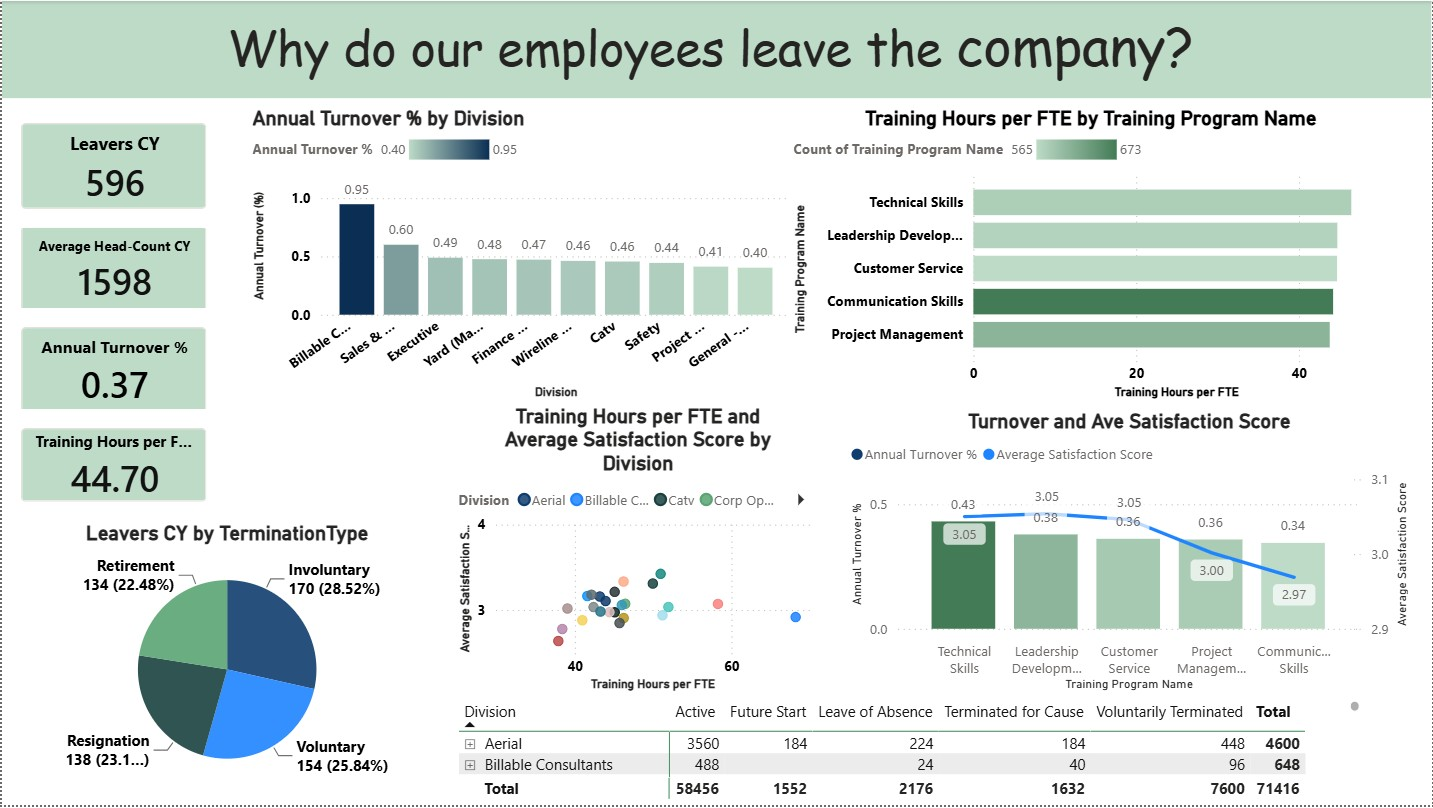

The page's visual inventory and layout, read from the dashboard file:
{"tool":"powerbi","page":{"name":"Dashboard","canvas":[1280,720],"ordinal":0},"visuals":[{"type":"cardVisual","fields":{"Data":["employee_data.Average Head-Count CY"]},"box":[0,184.3,200.5,111.3],"z":0},{"type":"cardVisual","fields":{"Data":["employee_data.Annual Turnover %"]},"box":[0,274.8,200.5,111.3],"z":1000},{"type":"cardVisual","fields":{"Data":["training_and_development_data.Training Hours per FTE"]},"box":[0,365,200.5,101],"z":2000},{"type":"columnChart","fields":{"Category":["employee_data.Division"],"Y":["employee_data.Annual Turnover %"]},"box":[219.3,93.8,492,266.9],"z":3000},{"type":"textbox","box":[0,0,1279.7,86.6],"z":4000},{"type":"cardVisual","fields":{"Data":["employee_data.Leavers CY"]},"box":[0,92.6,200.5,111.3],"z":5000},{"type":"clusteredBarChart","fields":{"Category":["training_and_development_data.Training Program Name"],"Y":["training_and_development_data.Training Hours per FTE"]},"box":[704.1,93.8,542.5,266.9],"z":6000},{"type":"scatterChart","fields":{"Y":["employee_engagement_survey_data.Average Satisfaction Score"],"X":["training_and_development_data.Training Hours per FTE"],"Series":["employee_data.Division"]},"box":[403.5,360.7,331.4,261.7],"z":7000},{"type":"pivotTable","fields":{"Rows":["employee_data.Division","employee_data.FirstName"],"Columns":["employee_data.EmployeeStatus"],"Values":["Sum(training_and_development_data.Training Hours)"]},"box":[404,621.8,816.6,98.1],"z":8000},{"type":"pieChart","fields":{"Category":["employee_data.TerminationType"],"Y":["employee_data.Leavers CY"]},"box":[20.2,466,362.1,243.8],"z":9000},{"type":"lineStackedColumnComboChart","title":"Turnover and Ave Satisfaction Score","fields":{"Y":["employee_data.Annual Turnover %"],"Category":["training_and_development_data.Training Program Name"],"Y2":["employee_engagement_survey_data.Average Satisfaction Score"]},"box":[754.6,365,509.3,256.8],"z":9002}]}

Visuals, with their boxes in screenshot pixels (x1, y1, x2, y2), scaled from the page's 1280x720 canvas onto the 1433x808 screenshot:
cardVisual - employee_data.Average Head-Count CY: (x1=0, y1=207, x2=224, y2=332)
cardVisual - employee_data.Annual Turnover %: (x1=0, y1=308, x2=224, y2=433)
cardVisual - training_and_development_data.Training Hours per FTE: (x1=0, y1=410, x2=224, y2=523)
columnChart - employee_data.Division x employee_data.Annual Turnover %: (x1=246, y1=105, x2=796, y2=405)
textbox: (x1=0, y1=0, x2=1432, y2=97)
cardVisual - employee_data.Leavers CY: (x1=0, y1=104, x2=224, y2=229)
clusteredBarChart - training_and_development_data.Training Program Name x training_and_development_data.Training Hours per FTE: (x1=788, y1=105, x2=1396, y2=405)
scatterChart - employee_engagement_survey_data.Average Satisfaction Score x training_and_development_data.Training Hours per FTE: (x1=452, y1=405, x2=823, y2=698)
pivotTable - employee_data.Division x employee_data.FirstName: (x1=452, y1=698, x2=1366, y2=807)
pieChart - employee_data.TerminationType x employee_data.Leavers CY: (x1=23, y1=523, x2=428, y2=797)
"Turnover and Ave Satisfaction Score" lineStackedColumnComboChart: (x1=845, y1=410, x2=1415, y2=698)
